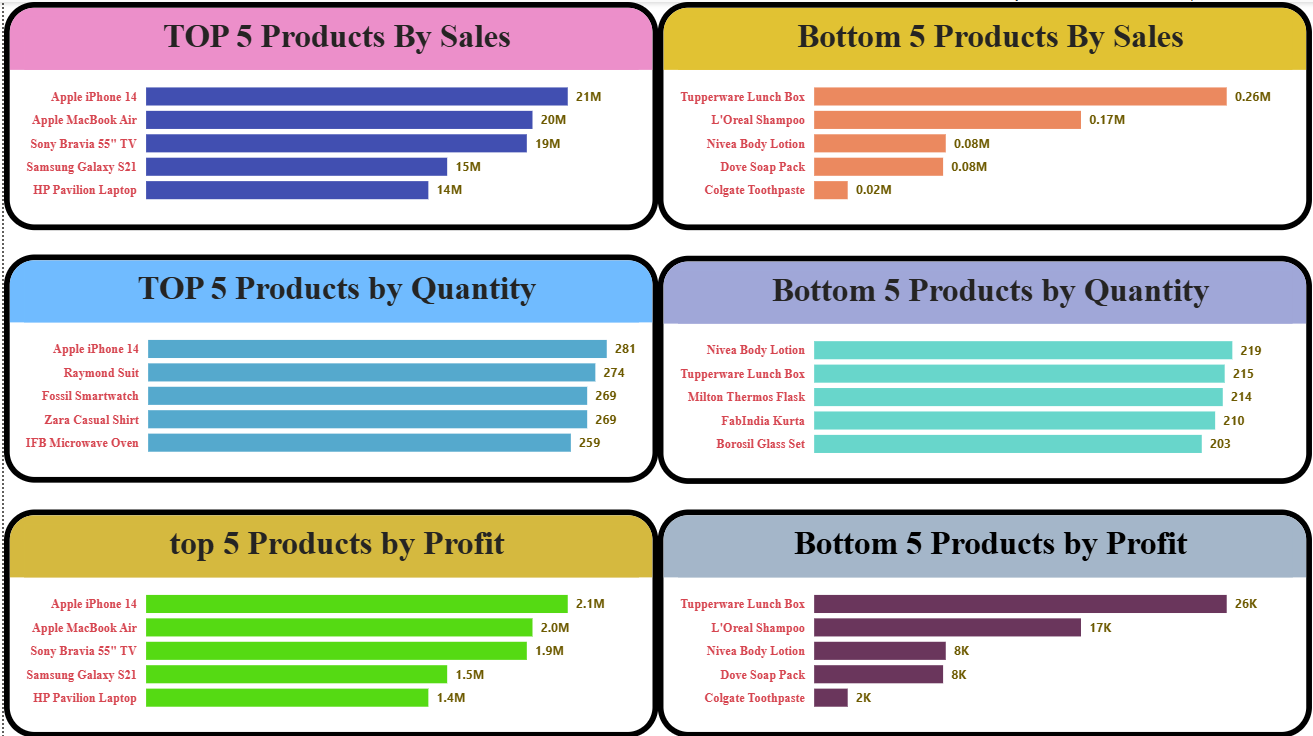

Layout of this report page (visuals, bound fields, positions):
{"tool":"powerbi","page":{"name":"Top/bottom trends","canvas":[1280,720],"ordinal":1},"visuals":[{"type":"barChart","title":"TOP 5 Products By Sales","fields":{"Category":["Dim Product.Product Name"],"Y":["Sum(Fact Table.Net Sales  )"]},"box":[0,0,640,223.3],"z":0},{"type":"barChart","title":"Bottom 5 Products By Sales","fields":{"Category":["Dim Product.Product Name"],"Y":["Sum(Fact Table.Net Sales  )"]},"box":[640,0,640,223.3],"z":1000},{"type":"barChart","title":"TOP 5 Products by Quantity","fields":{"Category":["Dim Product.Product Name"],"Y":["Sum(Fact Table.Units Sold)"]},"box":[0,246.7,640,223.3],"z":2000},{"type":"barChart","title":"Bottom 5 Products by Quantity","fields":{"Category":["Dim Product.Product Name"],"Y":["Sum(Fact Table.Units Sold)"]},"box":[640,248.3,640,223.3],"z":3000},{"type":"barChart","title":"top 5 Products by Profit","fields":{"Category":["Dim Product.Product Name"],"Y":["Sum(Fact Table.Profit)"]},"box":[0,496.7,640,223.3],"z":4000},{"type":"barChart","title":"Bottom 5 Products by Profit","fields":{"Category":["Dim Product.Product Name"],"Y":["Sum(Fact Table.Profit)"]},"box":[640,496.7,640,223.3],"z":5000}]}

Visuals, with their boxes in screenshot pixels (x1, y1, x2, y2), scaled from the page's 1280x720 canvas onto the 1313x736 screenshot:
"TOP 5 Products By Sales" barChart: 0, 0, 656, 228
"Bottom 5 Products By Sales" barChart: 656, 0, 1312, 228
"TOP 5 Products by Quantity" barChart: 0, 252, 656, 480
"Bottom 5 Products by Quantity" barChart: 656, 254, 1312, 482
"top 5 Products by Profit" barChart: 0, 508, 656, 735
"Bottom 5 Products by Profit" barChart: 656, 508, 1312, 735
